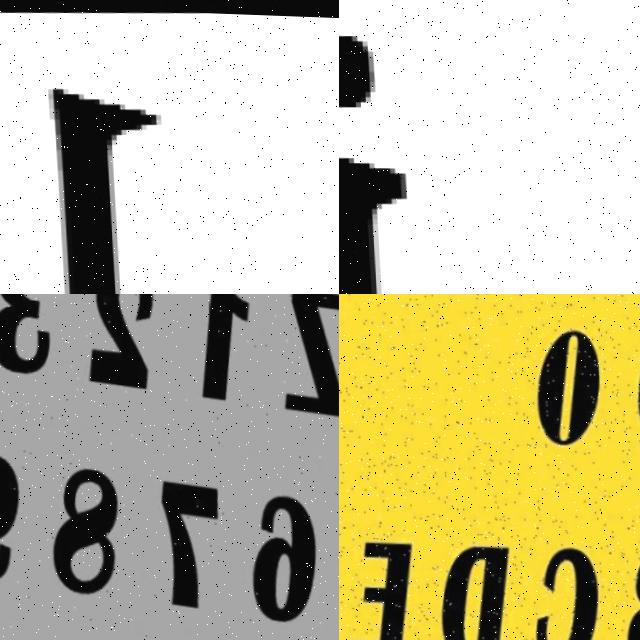0: (509, 303, 616, 454)
1: (175, 294, 266, 424)
2: (70, 294, 172, 400)
3: (0, 294, 68, 390)
6: (234, 469, 331, 629)
7: (133, 455, 231, 630)
8: (30, 432, 133, 605)
9: (0, 423, 31, 604), (616, 313, 640, 459)
D: (0, 64, 339, 294)
J: (339, 17, 459, 294)
